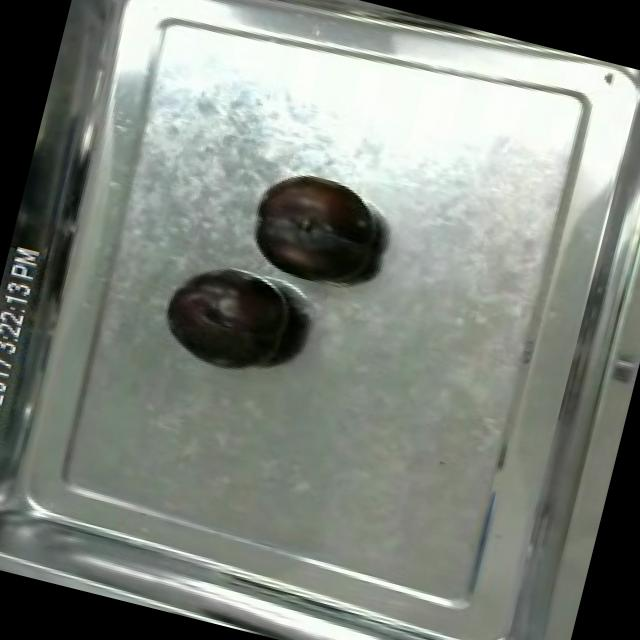Fruit: (236, 162, 394, 300), (148, 254, 308, 389)
